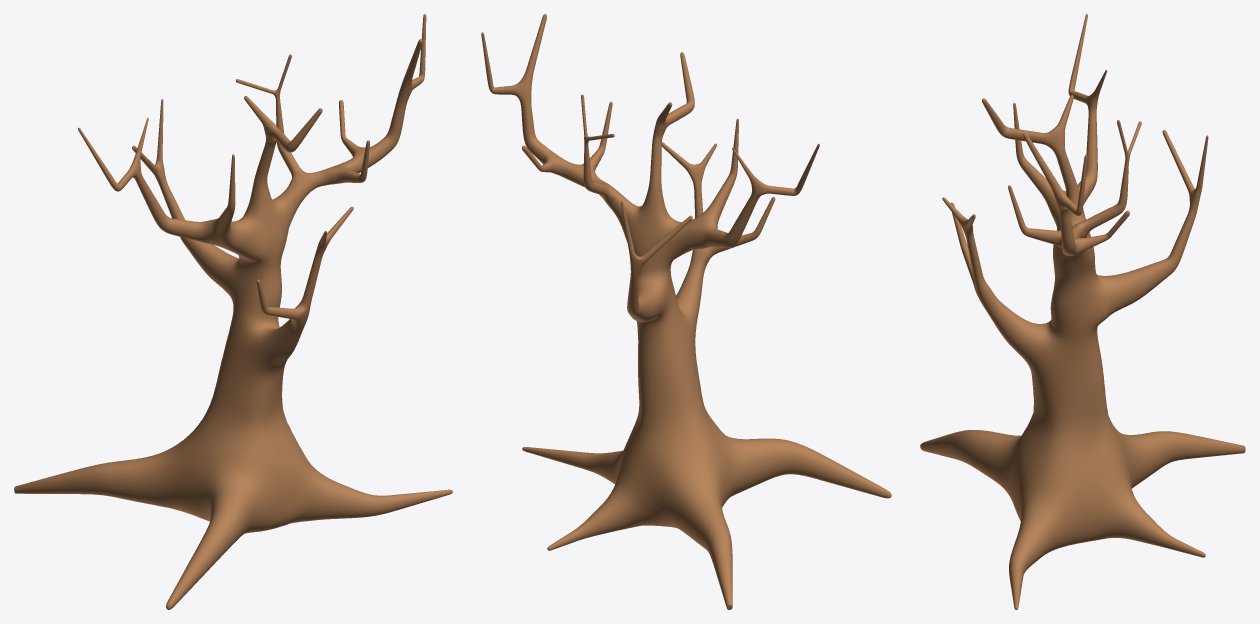
The model's file is Agac.fbx.
3 renders of one model, left to right at view 1: azimuth 30°, elevation 25°; view 2: azimuth 150°, elevation 25°; view 3: azimuth 270°, elevation 25°, orthographic. The views are drawn at different scales.
Visible parts, largest first — view 1: Agac; view 2: Agac; view 3: Agac.
Boxes of the visible parts, x1,y1,x2,y2 form: Agac: (14, 14, 452, 609); Agac: (481, 14, 891, 609); Agac: (920, 14, 1245, 609).
Size of the model in its own units: 791 by 1008 by 633.
